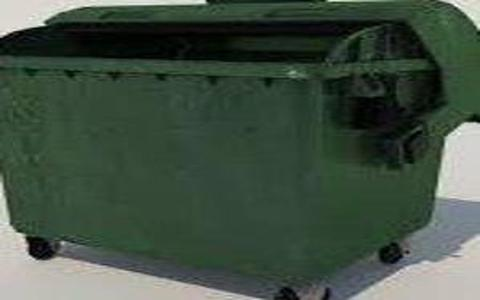Proper garbage: (1, 1, 480, 296)
